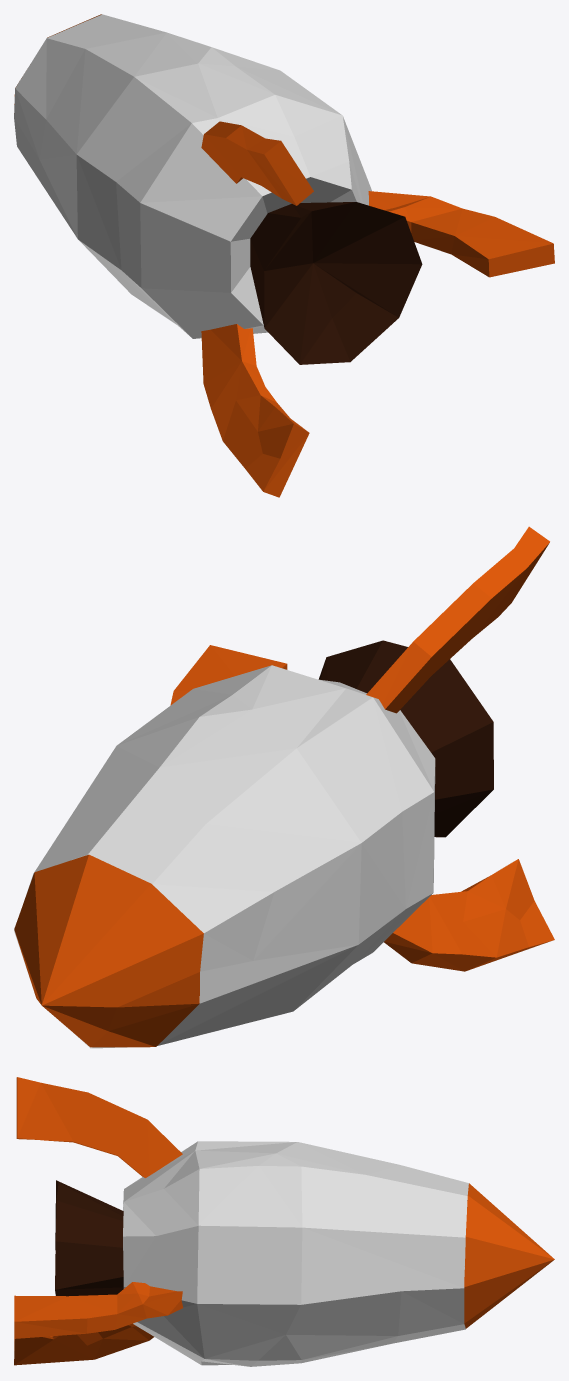
Rendered from Rocket.gltf.
3 renders of one model, top to bottom at view 1: azimuth 30°, elevation 25°; view 2: azimuth 150°, elevation 25°; view 3: azimuth 270°, elevation 25°, orthographic. The views are drawn at different scales.
Visible parts, largest first — view 1: Rocket; view 2: Rocket; view 3: Rocket.
Boxes of the visible parts, bbox=[...] form: Rocket: bbox=[14, 14, 554, 497]; Rocket: bbox=[14, 526, 554, 1048]; Rocket: bbox=[14, 1077, 554, 1366].
Bounding box in the file's own units: 0.3409 × 0.3802 × 0.6432.
